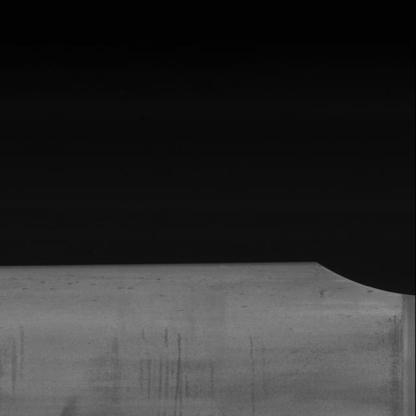welding_line: (378, 279, 416, 416)
